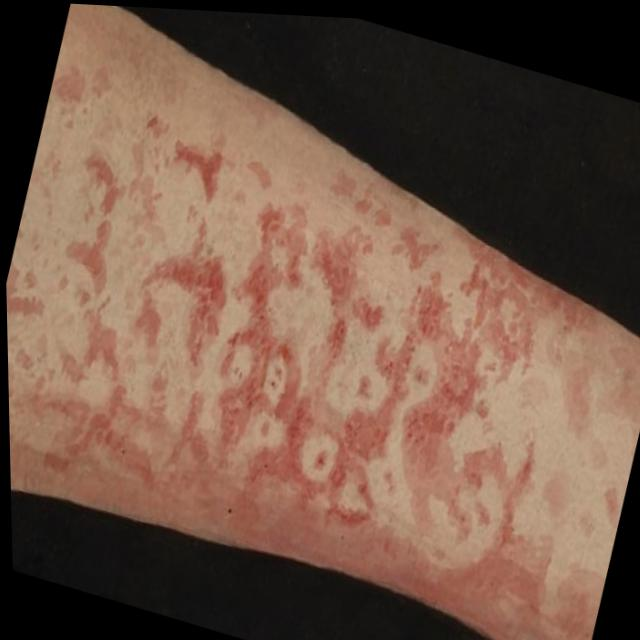Erythema marginatum: (1, 70, 392, 484)
